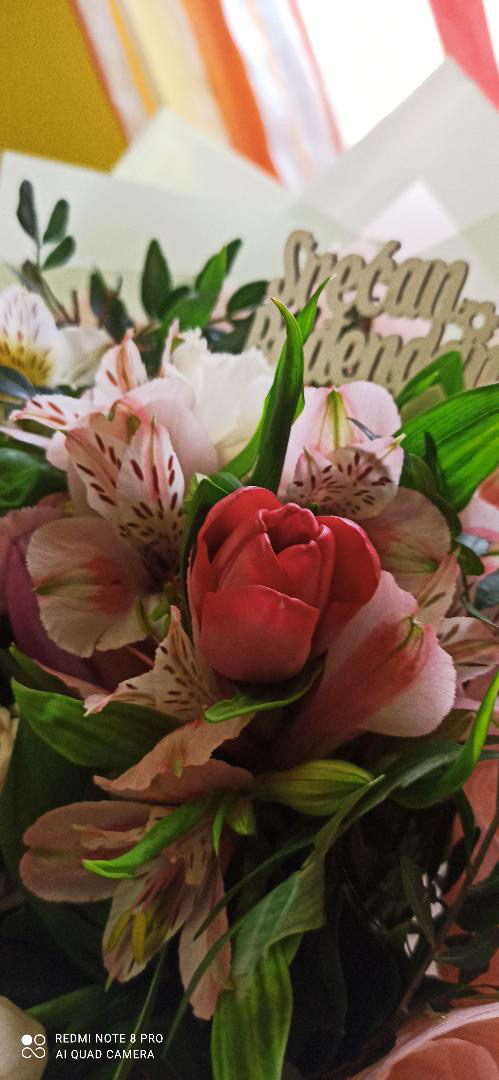tulip: (186, 480, 385, 699)
